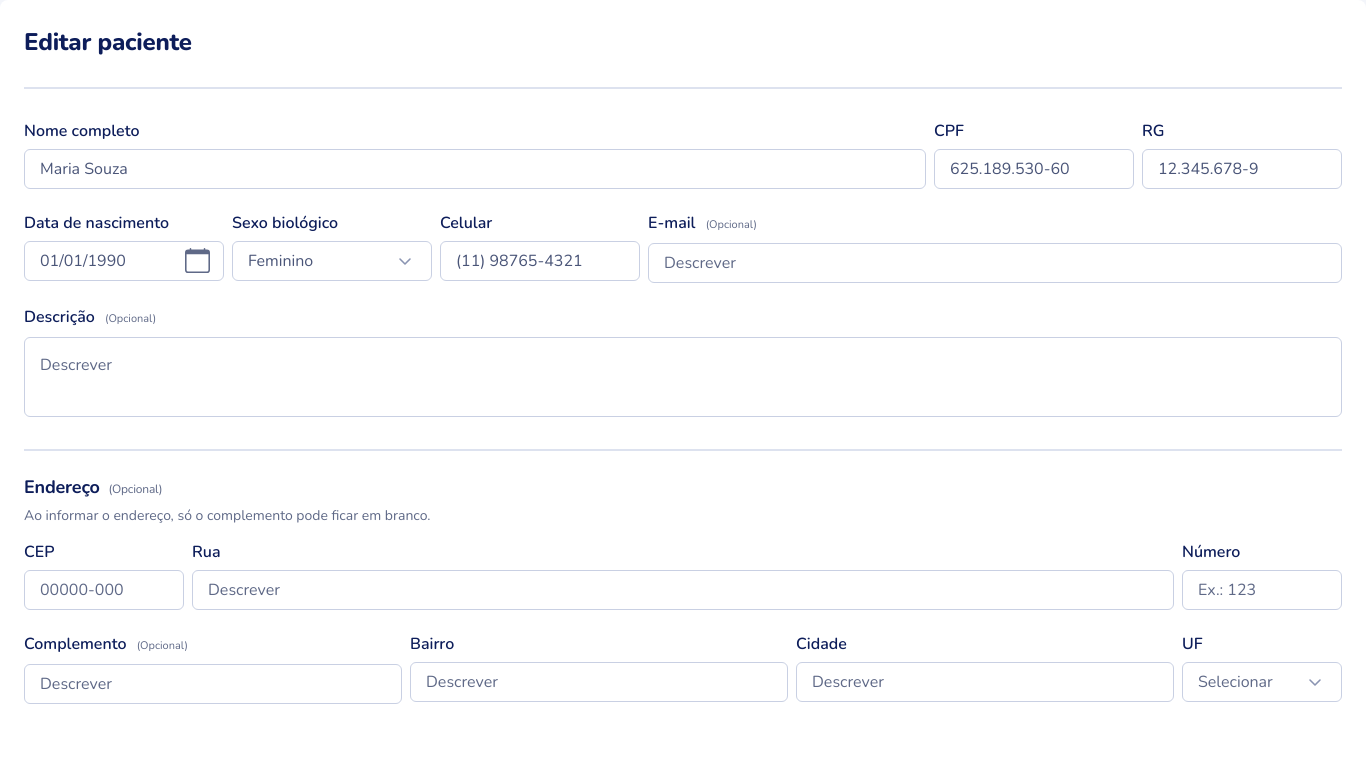
Test case: PatientForm address › treats a network failure like an unavailable service and retries on blur
This screenshot has width=1366, height=760.
Step 1. Type "01310100" into the field labelled "CEP" → {"x": 104, "y": 590}, box [24,570,184,610]
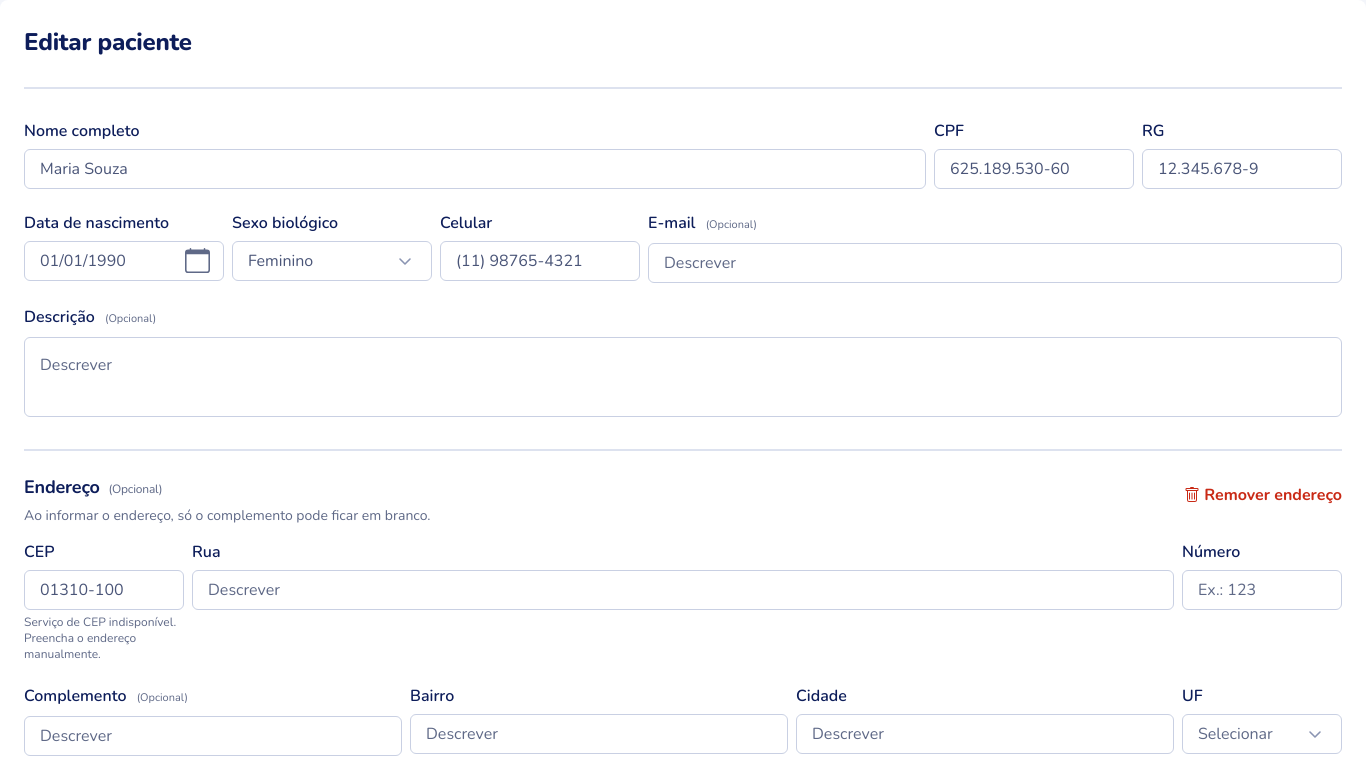
Step 2. Leave the field labelled "CEP", box [24,570,184,610]
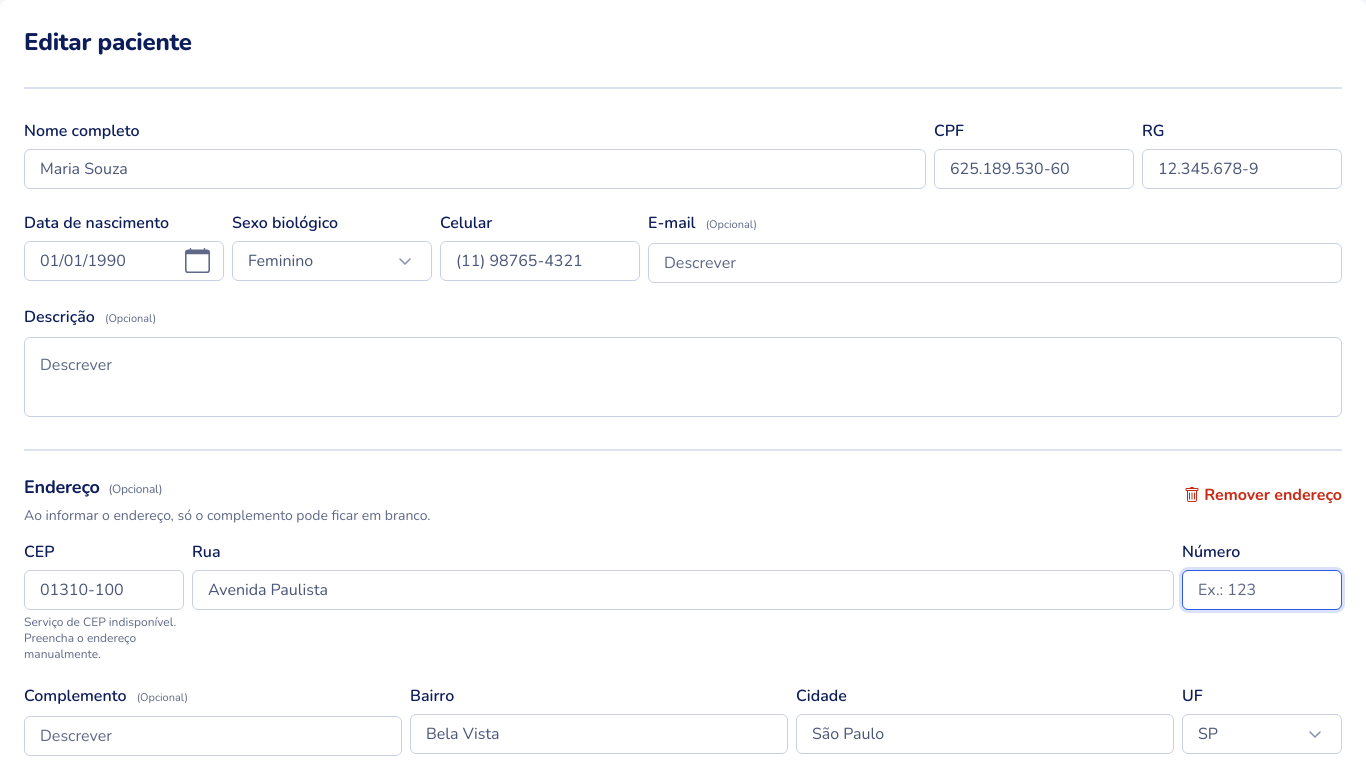
Check: the field labelled "Rua" holds "Avenida Paulista", box [192,570,1174,610]
